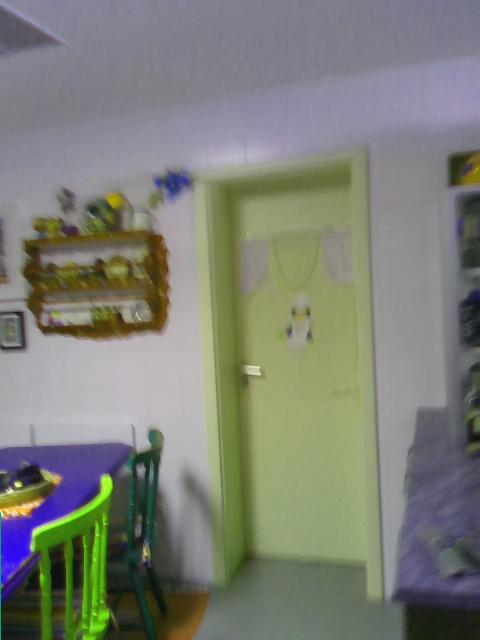closed_door: (196, 144, 385, 598)
